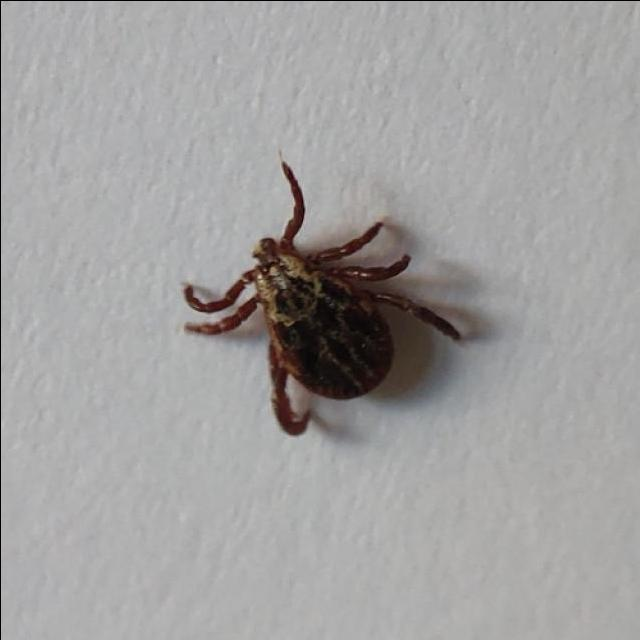Dermacentor Reticulatus-M: (180, 157, 466, 434)
